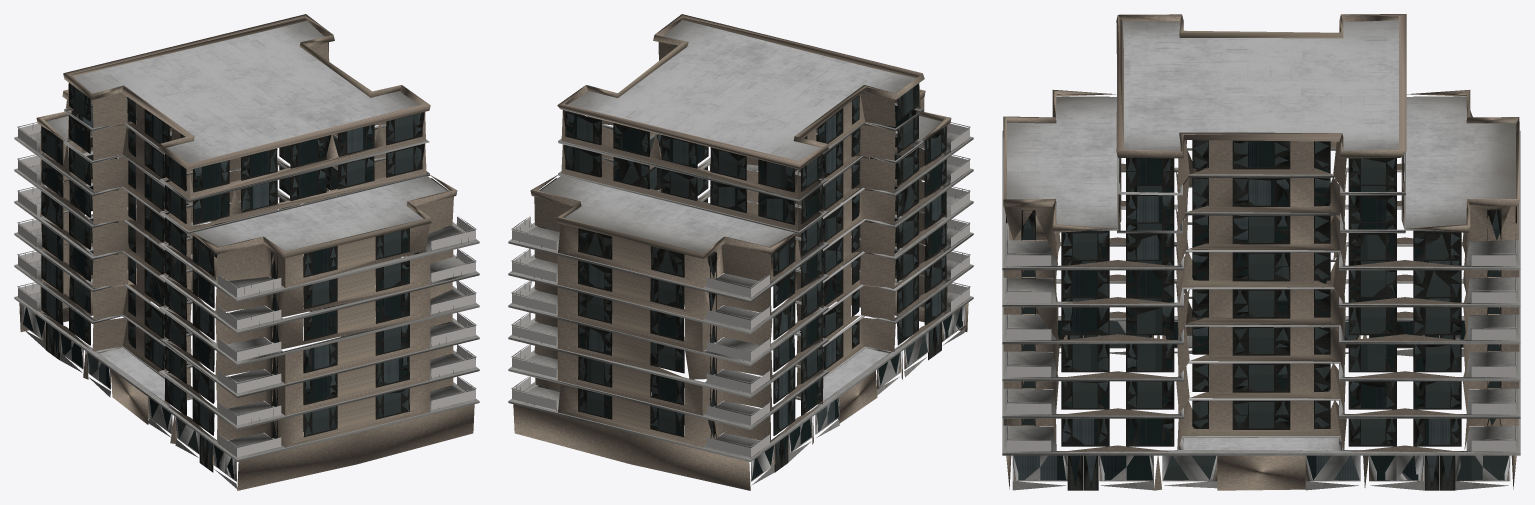
Rendered from mid-3t.glb.
The picture shows the model from 3 angles, left to right: view 1: azimuth 30°, elevation 25°; view 2: azimuth 150°, elevation 25°; view 3: azimuth 270°, elevation 25°; orthographic projection. The views are drawn at different scales.
Visible parts, largest first — view 1: Mid_Rise_Building_3_Tall; view 2: Mid_Rise_Building_3_Tall; view 3: Mid_Rise_Building_3_Tall.
Boxes of the visible parts, x1,y1,x2,y2 form: Mid_Rise_Building_3_Tall: (14,14,479,490); Mid_Rise_Building_3_Tall: (508,14,973,490); Mid_Rise_Building_3_Tall: (1002,14,1520,490).
Size of the model in its own units: 20.58 by 23.76 by 32.72.
Materials: 1 (1 with a texture image).
